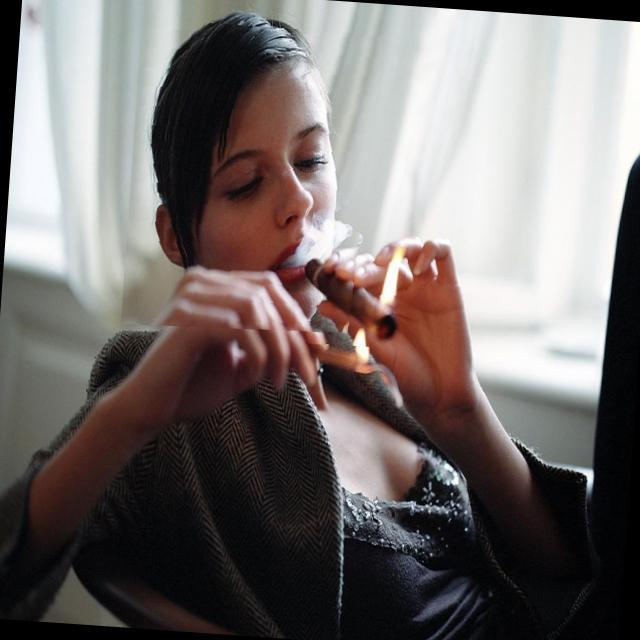cigarette: (306, 240, 408, 350)
